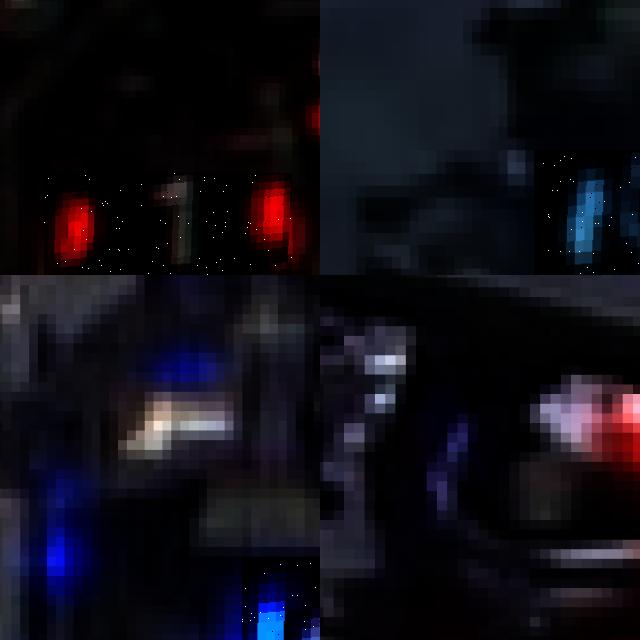B4: (242, 556, 320, 640)
B5: (534, 150, 640, 275)
R1: (44, 172, 292, 275)
